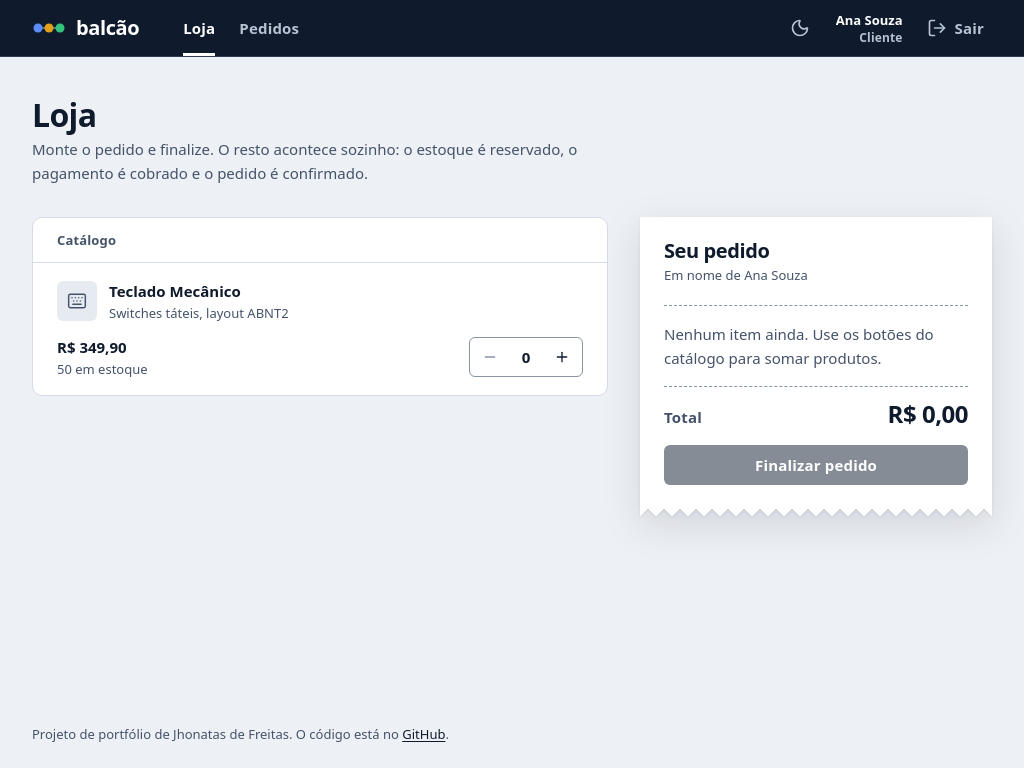
Test: placing an order › keepsTheCartAndExplainsWhenTheOrderIsRateLimited
Click the button named "Aumentar Teclado Mecânico" at (562, 357), box [542,337,582,377]
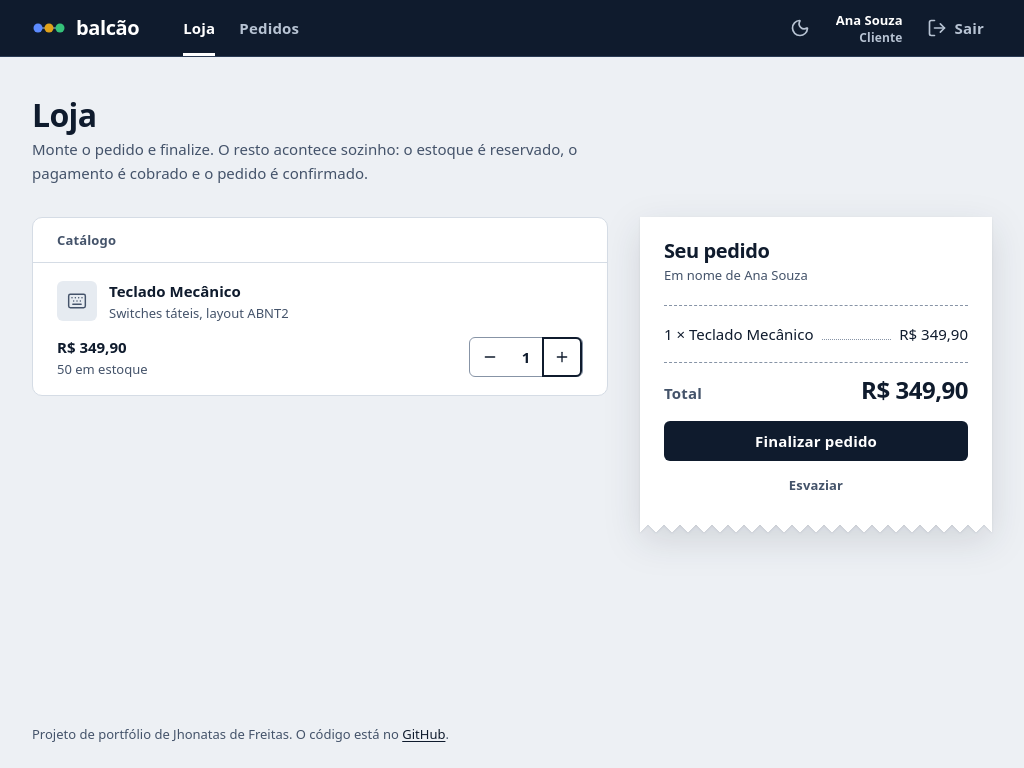
Click the button "Finalizar pedido" at (816, 441), box [664,421,968,461]
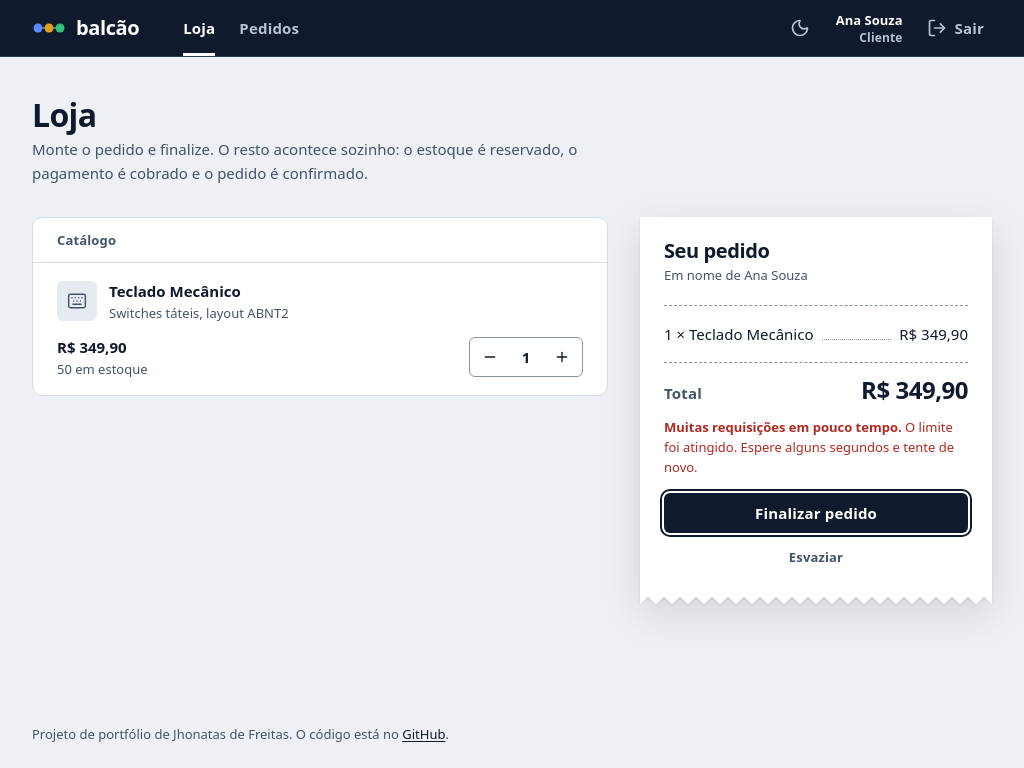
Now the text "1 × Teclado Mecânico" is shown, box [664,322,814,346]
Now the message shows "Muitas requisições em pouco tempo", box [664,418,898,436]
